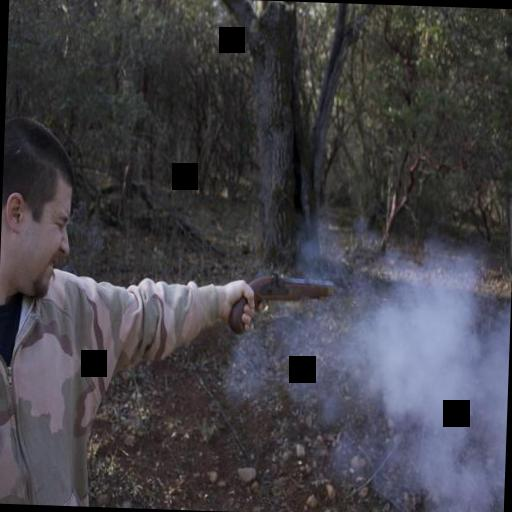Handgun: (224, 264, 338, 341)
